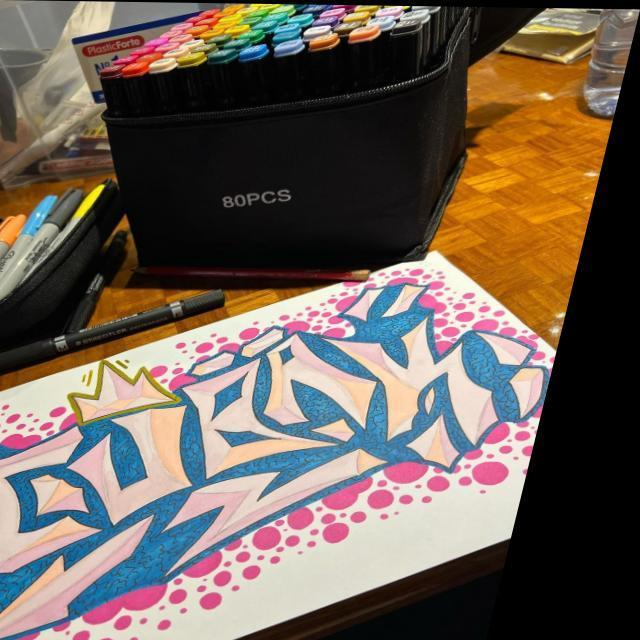-: (0, 191, 598, 640)
